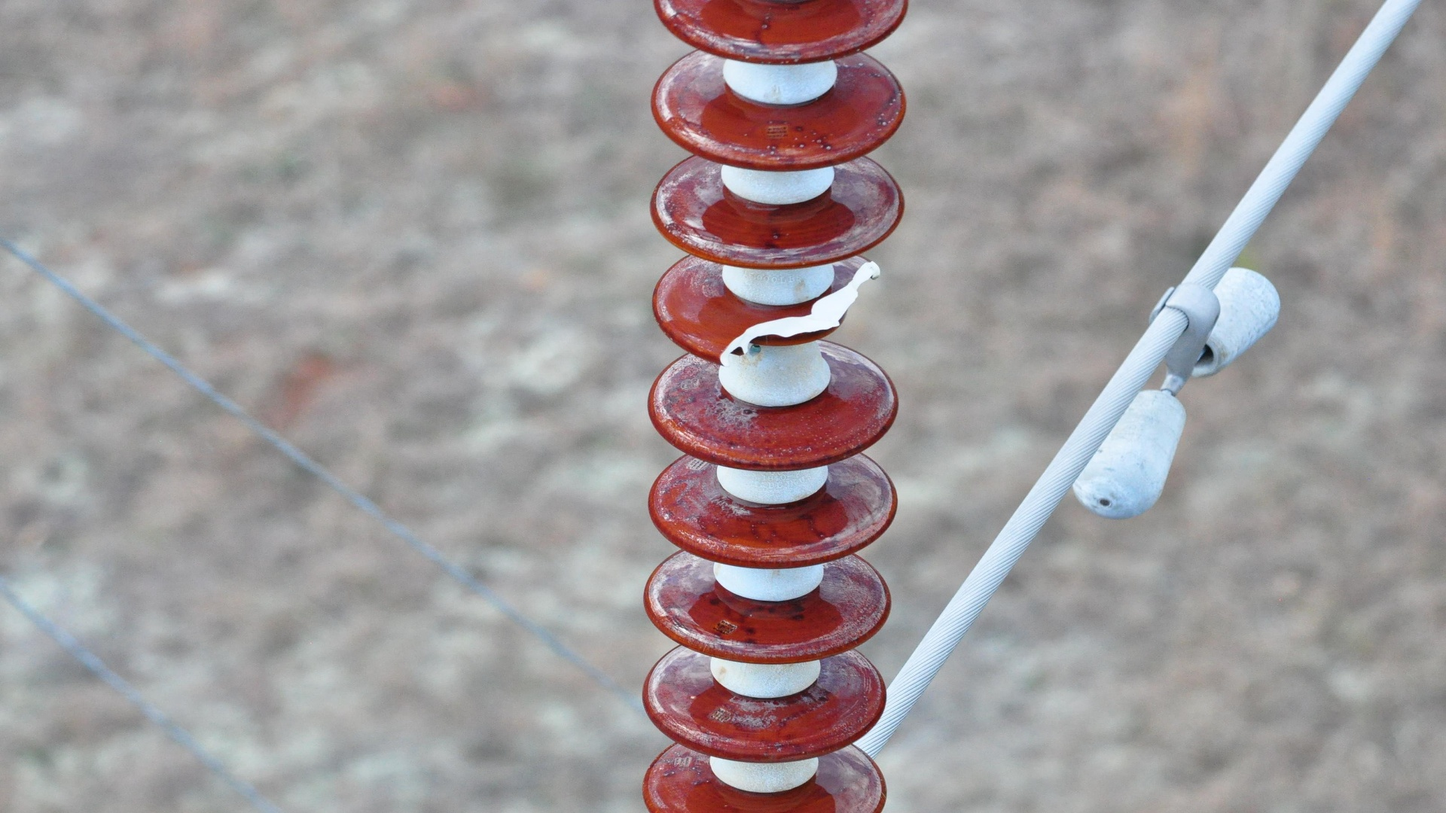damper: (1066, 254, 1286, 528)
